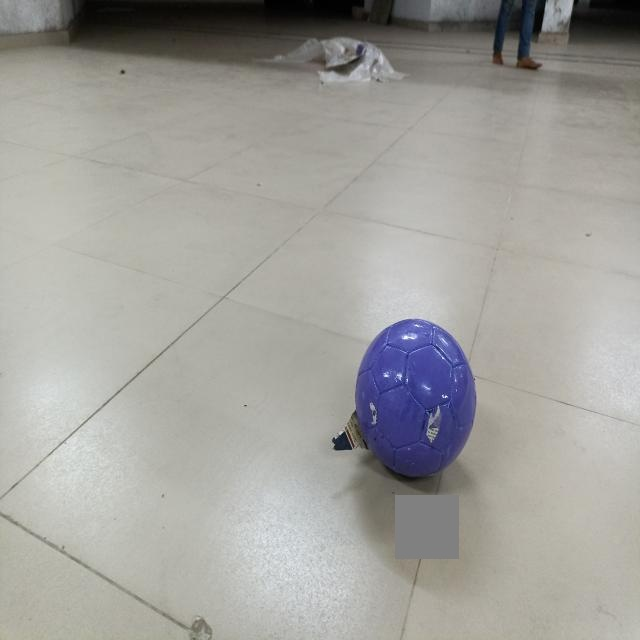purple_ball: (349, 296, 483, 488)
